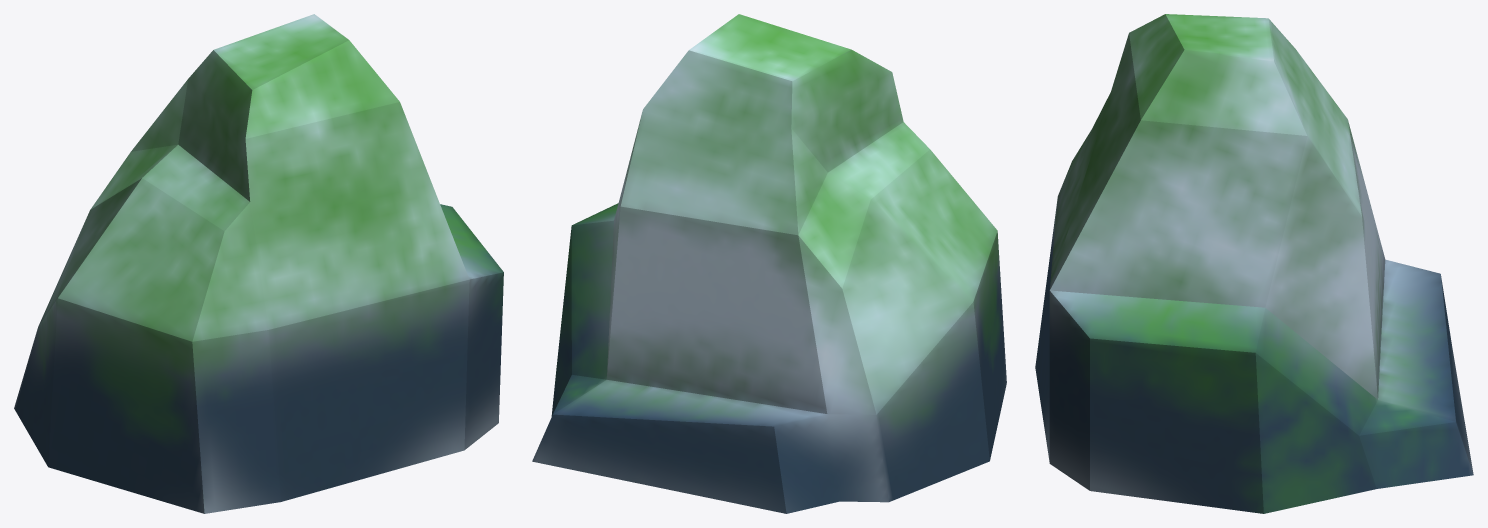
The model's file is Rock_Moss_3.fbx.
The picture shows the model from 3 angles, left to right: view 1: azimuth 30°, elevation 25°; view 2: azimuth 150°, elevation 25°; view 3: azimuth 270°, elevation 25°; orthographic projection. The views are drawn at different scales.
Parts seen in each view (by area): view 1: Rock_Moss_3; view 2: Rock_Moss_3; view 3: Rock_Moss_3.
Boxes of the visible parts, box(x1,y1,x2,y2) form: Rock_Moss_3: box(14, 14, 503, 513); Rock_Moss_3: box(532, 14, 1006, 513); Rock_Moss_3: box(1035, 14, 1473, 513).
Size of the model in its own units: 0.7806 by 0.6525 by 0.6671.
